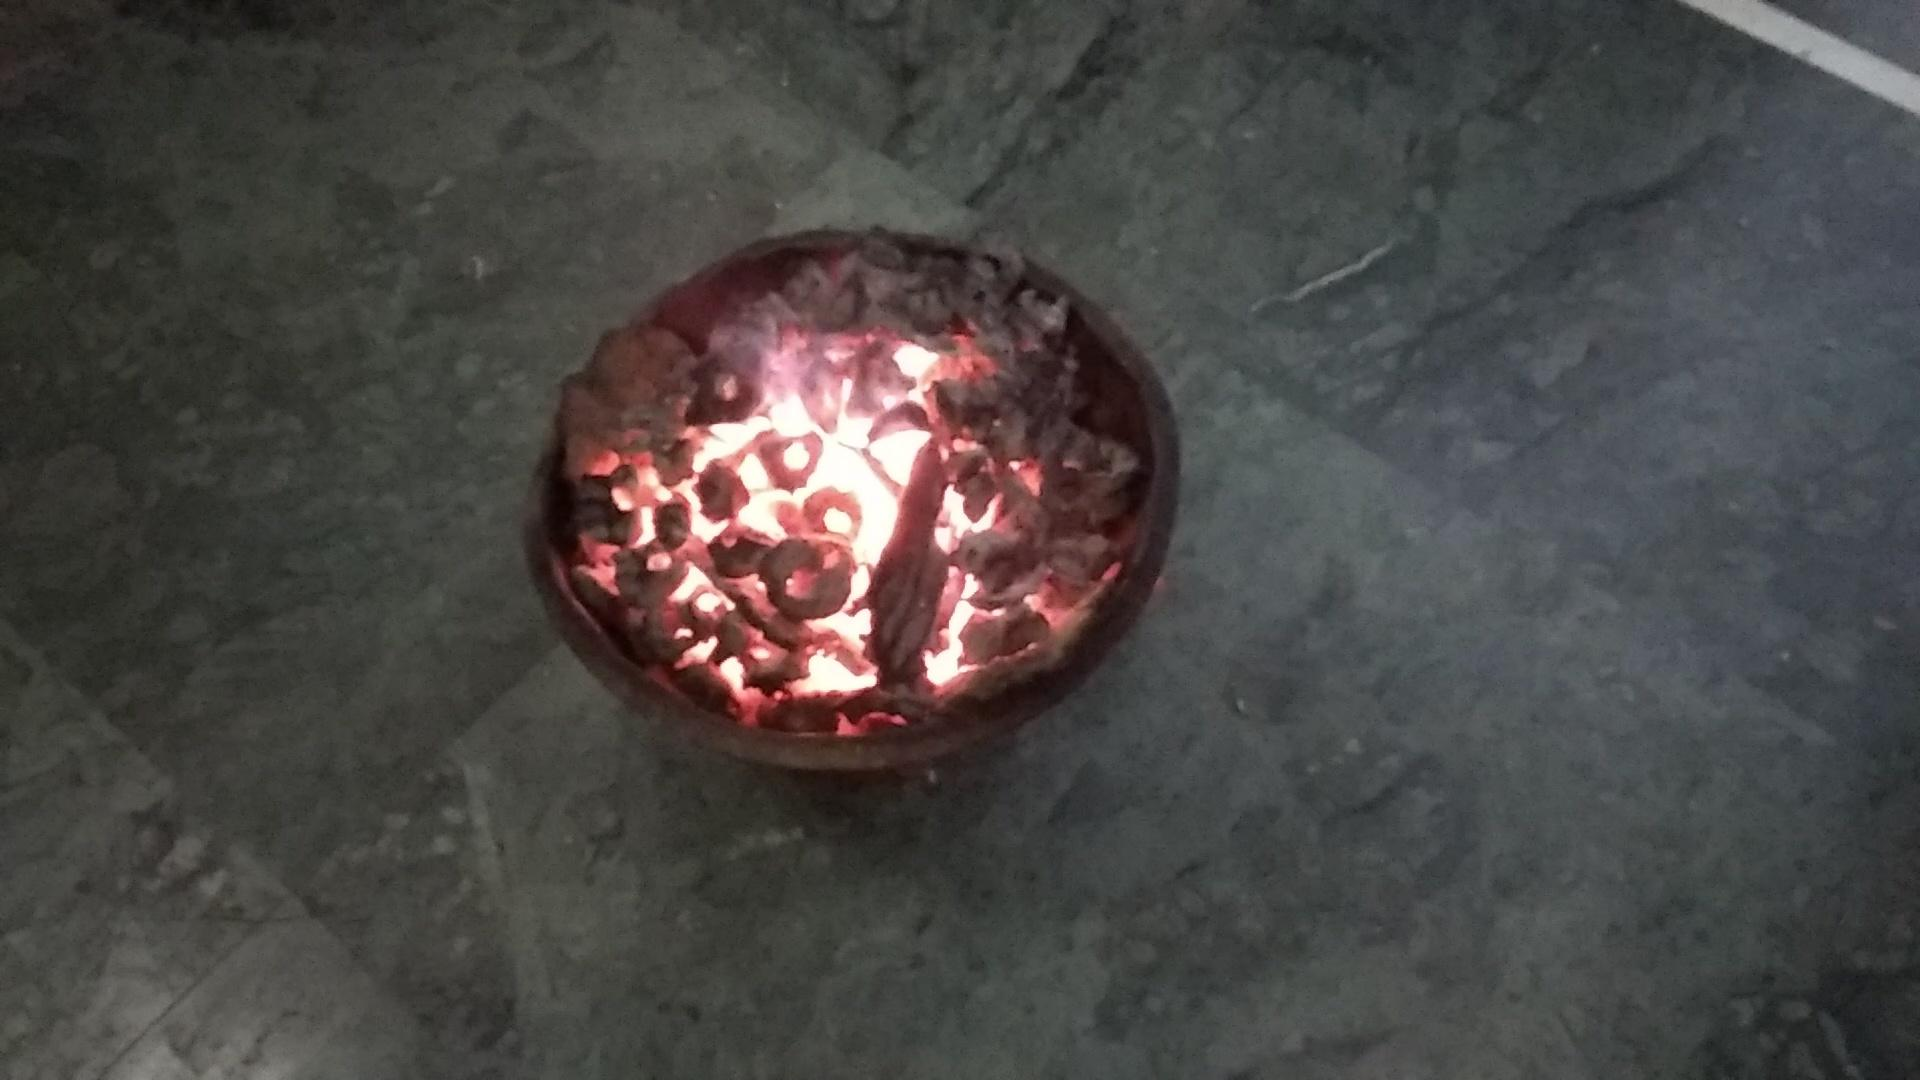fire: (625, 326, 1035, 707)
